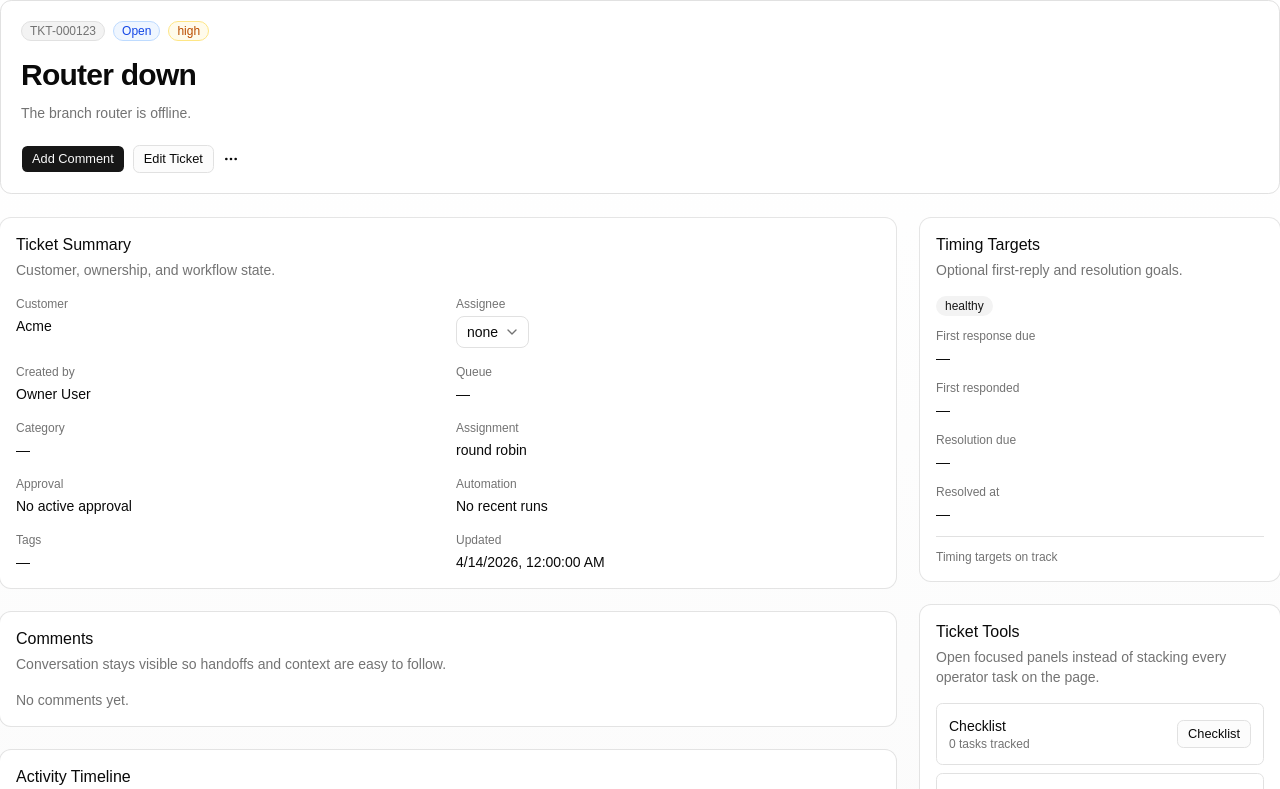
Test case: TicketDetailsPage mutations › maps update validation errors to form fields in edit dialog
The image size is (1280, 789).
Expected: the text "Ticket Summary" is shown, [16,236,131,253]
Step 1. Click the button "Edit Ticket" → (173, 159), box [133,145,214,173]
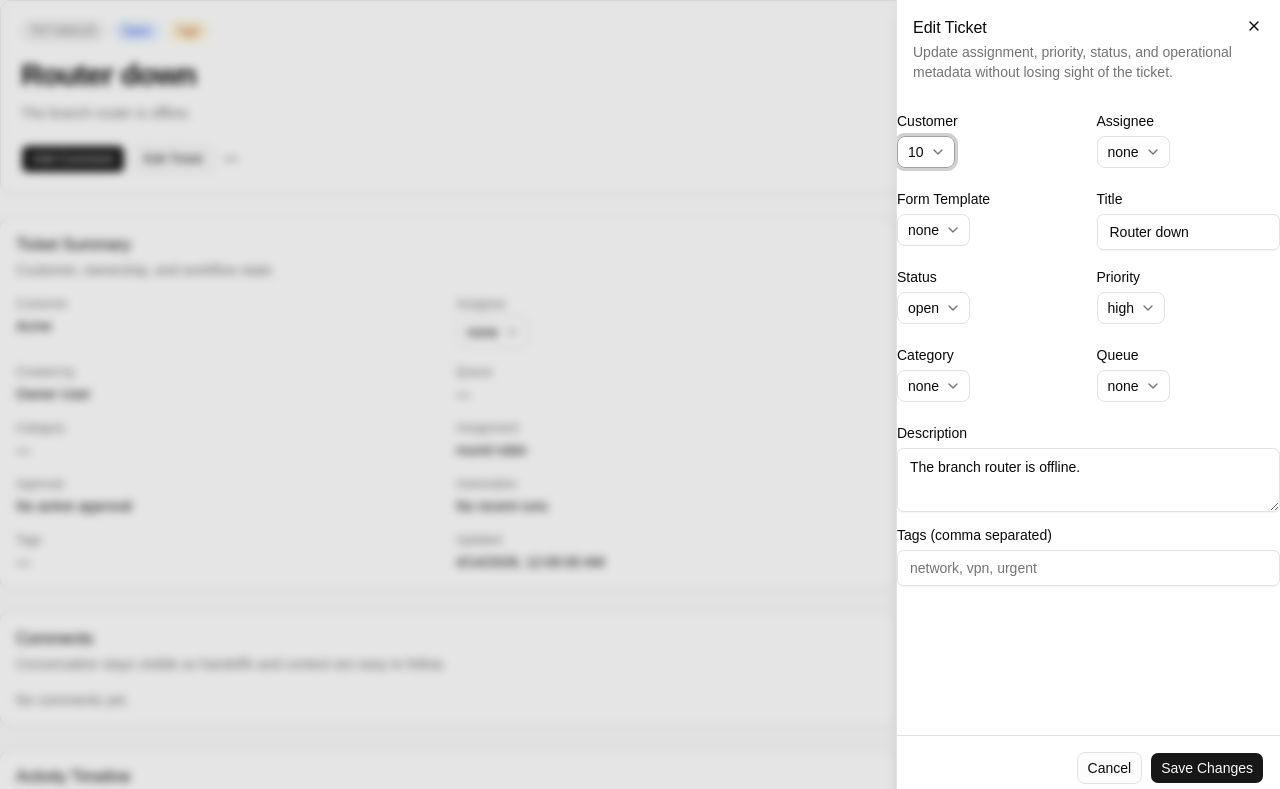
Now the button "Save Changes" is shown, box [1150,752,1264,784]
Step 2. Replace the text in the field labelled "Title" with "Router down duplicate" → (1188, 232), box [1096,214,1279,250]
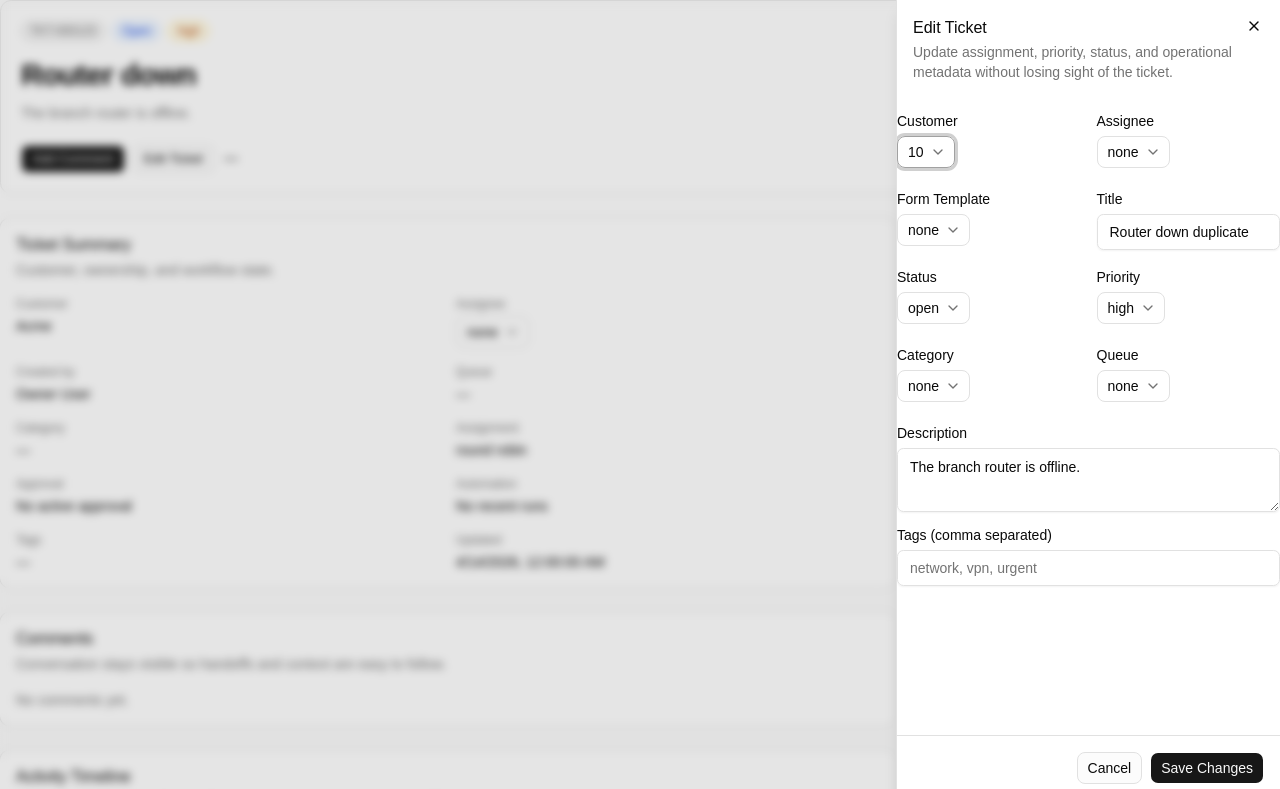
Step 3. Click the button "Save Changes" → (1207, 768), box [1150,752,1264,784]
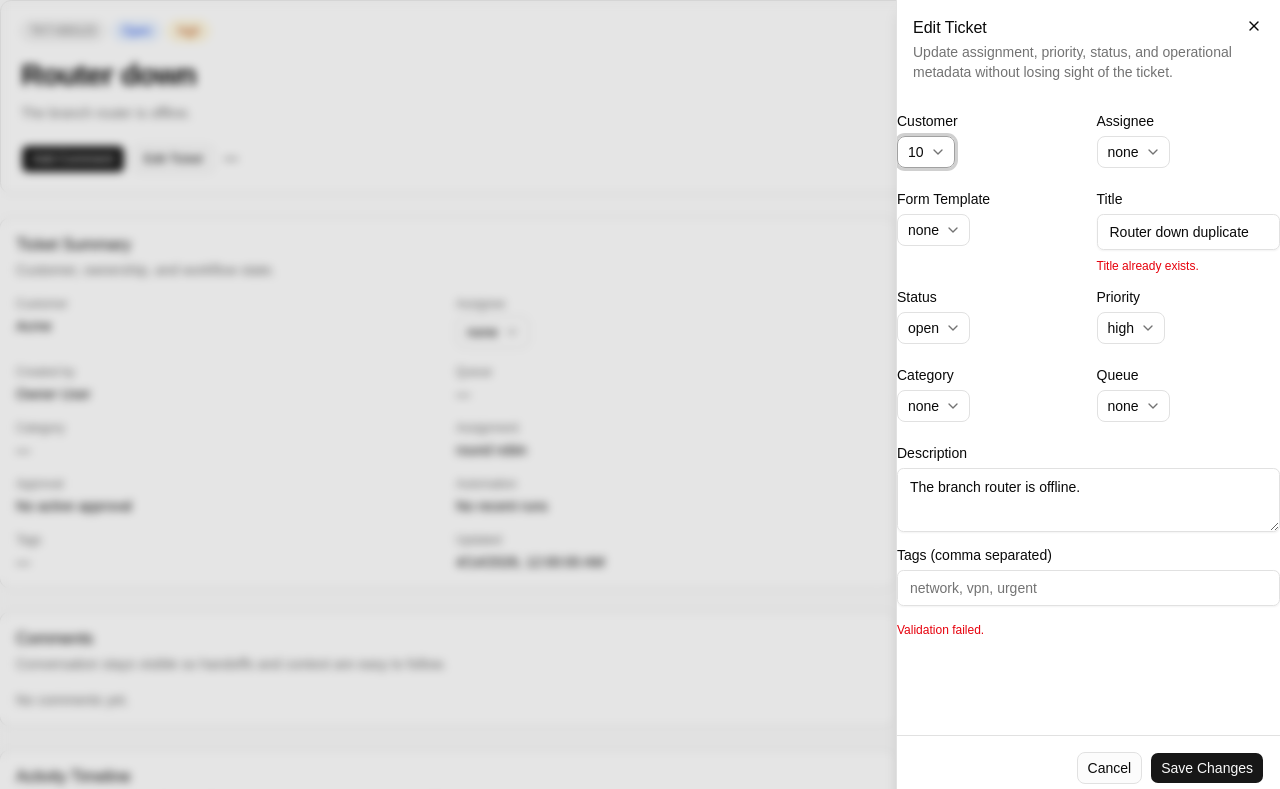
Now the text "Title already exists." is shown, box [1096,259,1199,273]
